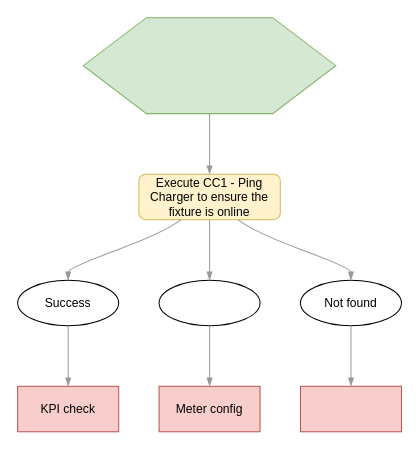
Image size: 419x449. Some labels were removed from this diagram. Here are the shapes that lost their labels. From the top down, the centre of each, then its label:
At [209,65]: "** Execute CC1 - Ping Charger to ensure the fixture is online **".
At [209,302]: "Misconfigured".
At [350,408]: "Open Service Call".
